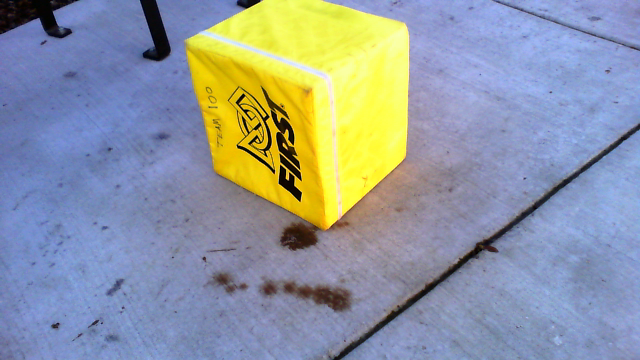cube: (183, 1, 411, 231)
